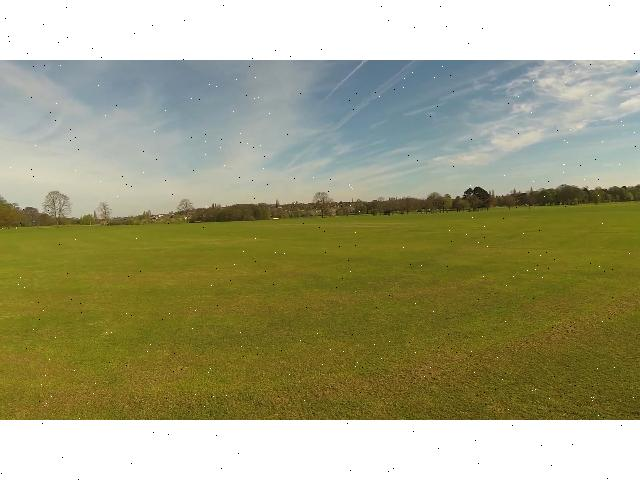Anti-Drone: (345, 182, 355, 190)
